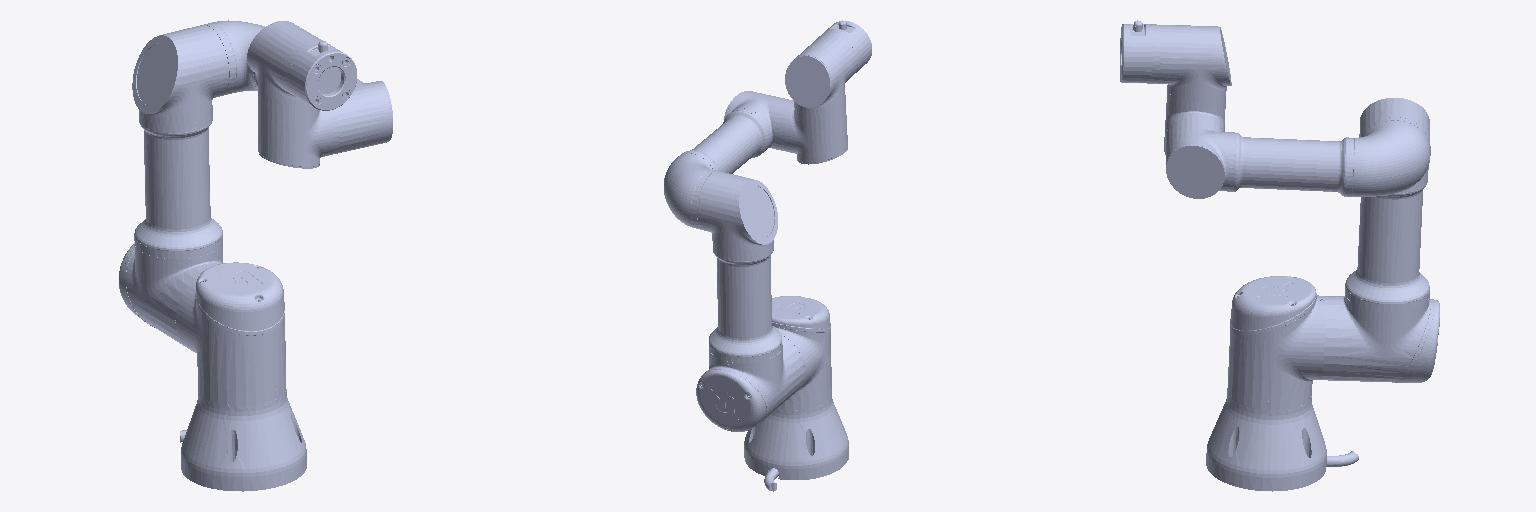
The robot description file, URDF, robot "UR3_4":
<robot
  name="UR3_4">
  <link
    name="base_link">
    <inertial>
      <origin
        xyz="-9.17917664867731E-05 0.00176225993189883 0.0221985040155013"
        rpy="0 0 0" />
      <mass
        value="0.615785178708615" />
      <inertia
        ixx="0.000798391609217155"
        ixy="-2.36939317248351E-06"
        ixz="2.31945715838129E-06"
        iyy="0.000785313593008411"
        iyz="-2.95609579480635E-05"
        izz="0.00102988796085097" />
    </inertial>
    <visual>
      <origin
        xyz="0 0 0"
        rpy="0 0 0" />
      <geometry>
        <mesh
          filename="package://UR3_4/meshes/base_link.STL" />
      </geometry>
      <material
        name="">
        <color
          rgba="0.792156862745098 0.819607843137255 0.933333333333333 1" />
      </material>
    </visual>
    <collision>
      <origin
        xyz="0 0 0"
        rpy="0 0 0" />
      <geometry>
        <mesh
          filename="package://UR3_4/meshes/base_link.STL" />
      </geometry>
    </collision>
  </link>
  <link
    name="link1">
    <inertial>
      <origin
        xyz="-1.16579425962352E-05 0.0542331848711327 0.00709561655792605"
        rpy="0 0 0" />
      <mass
        value="0.752018184613331" />
      <inertia
        ixx="0.00119772991115785"
        ixy="-1.57544981962304E-07"
        ixz="-1.40423013378356E-07"
        iyy="0.000903952766448813"
        iyz="9.95161463495687E-05"
        izz="0.00111931029014456" />
    </inertial>
    <visual>
      <origin
        xyz="0 0 0"
        rpy="0 0 0" />
      <geometry>
        <mesh
          filename="package://UR3_4/meshes/link1.STL" />
      </geometry>
      <material
        name="">
        <color
          rgba="0.792156862745098 0.819607843137255 0.933333333333333 1" />
      </material>
    </visual>
    <collision>
      <origin
        xyz="0 0 0"
        rpy="0 0 0" />
      <geometry>
        <mesh
          filename="package://UR3_4/meshes/link1.STL" />
      </geometry>
    </collision>
  </link>
  <joint
    name="jnt1"
    type="revolute">
    <origin
      xyz="0 0.0026751 0.062026"
      rpy="1.6139 -0.00078894 -3.1233" />
    <parent
      link="base_link" />
    <child
      link="link1" />
    <axis
      xyz="-0.00078894 -0.99907 0.043081" />
    <limit
      lower="0"
      upper="6.2"
      effort="0"
      velocity="0" />
  </joint>
  <link
    name="link2">
    <inertial>
      <origin
        xyz="-1.15992943500445E-05 0.0539289003732488 0.00709568345258235"
        rpy="0 0 0" />
      <mass
        value="0.752020006182499" />
      <inertia
        ixx="0.00119773082119344"
        ixy="-1.570312570916E-07"
        ixz="-1.39555784495906E-07"
        iyy="0.00090395542701678"
        iyz="9.95171516793994E-05"
        izz="0.0011193119653482" />
    </inertial>
    <visual>
      <origin
        xyz="0 0 0"
        rpy="0 0 0" />
      <geometry>
        <mesh
          filename="package://UR3_4/meshes/link2.STL" />
      </geometry>
      <material
        name="">
        <color
          rgba="0.792156862745098 0.819607843137255 0.933333333333333 1" />
      </material>
    </visual>
    <collision>
      <origin
        xyz="0 0 0"
        rpy="0 0 0" />
      <geometry>
        <mesh
          filename="package://UR3_4/meshes/link2.STL" />
      </geometry>
    </collision>
  </link>
  <joint
    name="jnt2"
    type="revolute">
    <origin
      xyz="0.00015682 0.065852 0.054304"
      rpy="1.5708 -9.0206E-17 3.1409" />
    <parent
      link="link1" />
    <child
      link="link2" />
    <axis
      xyz="0 -1 0" />
    <limit
      lower="0"
      upper="6.2"
      effort="0"
      velocity="0" />
  </joint>
  <link
    name="link3">
    <inertial>
      <origin
        xyz="2.98842200985305E-11 -1.58985949405555E-10 0.0695674237635138"
        rpy="0 0 0" />
      <mass
        value="0.552737646055454" />
      <inertia
        ixx="0.00126229583610101"
        ixy="1.27200881717884E-10"
        ixz="-3.86920646792959E-14"
        iyy="0.00126229828794338"
        iyz="-2.42310164634319E-12"
        izz="0.000345387859679815" />
    </inertial>
    <visual>
      <origin
        xyz="0 0 0"
        rpy="0 0 0" />
      <geometry>
        <mesh
          filename="package://UR3_4/meshes/link3.STL" />
      </geometry>
      <material
        name="">
        <color
          rgba="0.792156862745098 0.819607843137255 0.933333333333333 1" />
      </material>
    </visual>
    <collision>
      <origin
        xyz="0 0 0"
        rpy="0 0 0" />
      <geometry>
        <mesh
          filename="package://UR3_4/meshes/link3.STL" />
      </geometry>
    </collision>
  </link>
  <joint
    name="jnt3"
    type="revolute">
    <origin
      xyz="0.00015682 0.065548 0.05176"
      rpy="-1.9475E-16 -1.0122E-15 1.1551" />
    <parent
      link="link2" />
    <child
      link="link3" />
    <axis
      xyz="0 0 1" />
    <limit
      lower="0"
      upper="6.2"
      effort="0"
      velocity="0" />
  </joint>
  <link
    name="link4">
    <inertial>
      <origin
        xyz="-0.0373245831851897 -0.00757317719745282 1.5181359549199E-06"
        rpy="0 0 0" />
      <mass
        value="0.339212926694728" />
      <inertia
        ixx="0.000256473335771864"
        ixy="3.65273939584755E-05"
        ixz="3.07905866015282E-09"
        iyy="0.000286981954081314"
        iyz="-2.11118846806774E-09"
        izz="0.000282798048740792" />
    </inertial>
    <visual>
      <origin
        xyz="0 0 0"
        rpy="0 0 0" />
      <geometry>
        <mesh
          filename="package://UR3_4/meshes/link4.STL" />
      </geometry>
      <material
        name="">
        <color
          rgba="0.792156862745098 0.819607843137255 0.933333333333333 1" />
      </material>
    </visual>
    <collision>
      <origin
        xyz="0 0 0"
        rpy="0 0 0" />
      <geometry>
        <mesh
          filename="package://UR3_4/meshes/link4.STL" />
      </geometry>
    </collision>
  </link>
  <joint
    name="jnt4"
    type="revolute">
    <origin
      xyz="0 0 0.14633"
      rpy="1.7932 1.5708 2.1973" />
    <parent
      link="link3" />
    <child
      link="link4" />
    <axis
      xyz="-1 0 0" />
    <limit
      lower="0"
      upper="6.2"
      effort="0"
      velocity="0" />
  </joint>
  <link
    name="link5">
    <inertial>
      <origin
        xyz="0.0550451072198847 0.0123769577291497 4.65258919168932E-08"
        rpy="0 0 0" />
      <mass
        value="0.315980001610279" />
      <inertia
        ixx="0.000256415626401478"
        ixy="6.62359487957181E-05"
        ixz="1.04055969425121E-09"
        iyy="0.00022631890140513"
        iyz="1.43323591695389E-09"
        izz="0.000291465583650888" />
    </inertial>
    <visual>
      <origin
        xyz="0 0 0"
        rpy="0 0 0" />
      <geometry>
        <mesh
          filename="package://UR3_4/meshes/link5.STL" />
      </geometry>
      <material
        name="">
        <color
          rgba="0.792156862745098 0.819607843137255 0.933333333333333 1" />
      </material>
    </visual>
    <collision>
      <origin
        xyz="0 0 0"
        rpy="0 0 0" />
      <geometry>
        <mesh
          filename="package://UR3_4/meshes/link5.STL" />
      </geometry>
    </collision>
  </link>
  <joint
    name="jnt5"
    type="revolute">
    <origin
      xyz="-0.045564 -0.021967 0"
      rpy="-1.5788 5.8981E-16 -1.5708" />
    <parent
      link="link4" />
    <child
      link="link5" />
    <axis
      xyz="1 0 0" />
    <limit
      lower="0"
      upper="6.2"
      effort="0"
      velocity="0" />
  </joint>
  <link
    name="link6">
    <inertial>
      <origin
        xyz="-1.02355826592238E-09 -5.35945843260777E-10 -0.0652977977164337"
        rpy="0 0 0" />
      <mass
        value="0.321040378507981" />
      <inertia
        ixx="0.000570290480838894"
        ixy="-9.41403448453932E-10"
        ixz="-1.0366737266069E-11"
        iyy="0.000570295519173622"
        iyz="-5.53985581887803E-12"
        izz="0.000126061026996997" />
    </inertial>
    <visual>
      <origin
        xyz="0 0 0"
        rpy="0 0 0" />
      <geometry>
        <mesh
          filename="package://UR3_4/meshes/link6.STL" />
      </geometry>
      <material
        name="">
        <color
          rgba="0.792156862745098 0.819607843137255 0.933333333333333 1" />
      </material>
    </visual>
    <collision>
      <origin
        xyz="0 0 0"
        rpy="0 0 0" />
      <geometry>
        <mesh
          filename="package://UR3_4/meshes/link6.STL" />
      </geometry>
    </collision>
  </link>
  <joint
    name="jnt6"
    type="revolute">
    <origin
      xyz="0.071244 0.046024 0"
      rpy="-1.5708 -0.12492 3.1416" />
    <parent
      link="link5" />
    <child
      link="link6" />
    <axis
      xyz="0 0 -1" />
    <limit
      lower="0"
      upper="6.2"
      effort="0"
      velocity="0" />
  </joint>
  <link
    name="link7">
    <inertial>
      <origin
        xyz="-0.0367074220900242 -0.00553144984424089 4.13709880187074E-07"
        rpy="0 0 0" />
      <mass
        value="0.276073153901797" />
      <inertia
        ixx="0.000181700922840963"
        ixy="1.688946906456E-05"
        ixz="2.07092873180666E-09"
        iyy="0.000178933890243897"
        iyz="-3.75045458637156E-09"
        izz="0.000215939814591068" />
    </inertial>
    <visual>
      <origin
        xyz="0 0 0"
        rpy="0 0 0" />
      <geometry>
        <mesh
          filename="package://UR3_4/meshes/link7.STL" />
      </geometry>
      <material
        name="">
        <color
          rgba="0.792156862745098 0.819607843137255 0.933333333333333 1" />
      </material>
    </visual>
    <collision>
      <origin
        xyz="0 0 0"
        rpy="0 0 0" />
      <geometry>
        <mesh
          filename="package://UR3_4/meshes/link7.STL" />
      </geometry>
    </collision>
  </link>
  <joint
    name="jnt7"
    type="revolute">
    <origin
      xyz="0 0 -0.12281"
      rpy="-1.6061 -1.5708 -2.9597" />
    <parent
      link="link6" />
    <child
      link="link7" />
    <axis
      xyz="-1 0 0" />
    <limit
      lower="0"
      upper="6.2"
      effort="0"
      velocity="0" />
  </joint>
  <link
    name="link8">
    <inertial>
      <origin
        xyz="-0.042305424857576 -0.00553162235503007 4.50191684514545E-07"
        rpy="0 0 0" />
      <mass
        value="0.276071483529249" />
      <inertia
        ixx="0.000181699601817208"
        ixy="1.68885039442407E-05"
        ixz="2.23924759841302E-09"
        iyy="0.000178941863186415"
        iyz="-3.42151886666245E-09"
        izz="0.000215946484205604" />
    </inertial>
    <visual>
      <origin
        xyz="0 0 0"
        rpy="0 0 0" />
      <geometry>
        <mesh
          filename="package://UR3_4/meshes/link8.STL" />
      </geometry>
      <material
        name="">
        <color
          rgba="0.792156862745098 0.819607843137255 0.933333333333333 1" />
      </material>
    </visual>
    <collision>
      <origin
        xyz="0 0 0"
        rpy="0 0 0" />
      <geometry>
        <mesh
          filename="package://UR3_4/meshes/link8.STL" />
      </geometry>
    </collision>
  </link>
  <joint
    name="jnt8"
    type="revolute">
    <origin
      xyz="-0.044162 -0.03364 0"
      rpy="1.5706 -4.0049E-15 1.5708" />
    <parent
      link="link7" />
    <child
      link="link8" />
    <axis
      xyz="1 0 0" />
    <limit
      lower="0"
      upper="6.2"
      effort="0"
      velocity="0" />
  </joint>
  <link
    name="link9">
    <inertial>
      <origin
        xyz="-0.0375715626595217 -0.00553145550412851 4.12898463817216E-07"
        rpy="0 0 0" />
      <mass
        value="0.276072926967329" />
      <inertia
        ixx="0.000181700720449304"
        ixy="1.68894771258753E-05"
        ixz="2.09064022016729E-09"
        iyy="0.000178933701503148"
        iyz="-3.73625822853678E-09"
        izz="0.000215939730131613" />
    </inertial>
    <visual>
      <origin
        xyz="0 0 0"
        rpy="0 0 0" />
      <geometry>
        <mesh
          filename="package://UR3_4/meshes/link9.STL" />
      </geometry>
      <material
        name="">
        <color
          rgba="0.792156862745098 0.819607843137255 0.933333333333333 1" />
      </material>
    </visual>
    <collision>
      <origin
        xyz="0 0 0"
        rpy="0 0 0" />
      <geometry>
        <mesh
          filename="package://UR3_4/meshes/link9.STL" />
      </geometry>
    </collision>
  </link>
  <joint
    name="jnt9"
    type="revolute">
    <origin
      xyz="-0.04976 -0.038374 0"
      rpy="1.5383 -7.4333E-16 1.5708" />
    <parent
      link="link8" />
    <child
      link="link9" />
    <axis
      xyz="-1 0 0" />
    <limit
      lower="0"
      upper="6.2"
      effort="0"
      velocity="0" />
  </joint>
  <link
    name="link10">
    <inertial>
      <origin
        xyz="-3.4161258023746E-11 0.000103305758782479 -0.019297780219535"
        rpy="0 0 0" />
      <mass
        value="0.115355247294107" />
      <inertia
        ixx="4.32035974145055E-05"
        ixy="-5.73656517550076E-13"
        ixz="1.20229456345579E-12"
        iyy="4.34162195885928E-05"
        iyz="-1.08131291624742E-07"
        izz="5.90666750281698E-05" />
    </inertial>
    <visual>
      <origin
        xyz="0 0 0"
        rpy="0 0 0" />
      <geometry>
        <mesh
          filename="package://UR3_4/meshes/link10.STL" />
      </geometry>
      <material
        name="">
        <color
          rgba="0.792156862745098 0.819607843137255 0.933333333333333 1" />
      </material>
    </visual>
    <collision>
      <origin
        xyz="0 0 0"
        rpy="0 0 0" />
      <geometry>
        <mesh
          filename="package://UR3_4/meshes/link10.STL" />
      </geometry>
    </collision>
  </link>
  <joint
    name="jnt10"
    type="revolute">
    <origin
      xyz="-0.045026 -0.042675 0"
      rpy="-1.5708 -1.5653 3.1027E-13" />
    <parent
      link="link9" />
    <child
      link="link10" />
    <axis
      xyz="0 0 1" />
    <limit
      lower="0"
      upper="6.2"
      effort="0"
      velocity="0" />
  </joint>
</robot>

--- Render facts (derived) ---
3 views of the same robot in one strip: view 1: azimuth 30°, elevation 25°; view 2: azimuth 150°, elevation 25°; view 3: azimuth 270°, elevation 25° (orthographic).
Robot: UR3_4 — 11 links, 10 joints (10 revolute); root link base_link; default pose: every joint at zero.
Links seen in each view (by area): view 1: link1, base_link, link3, link4, link2, link8, link10, link9, link7, link5; view 2: base_link, link3, link2, link4, link1, link9, link8, link6, link5, link7, link10; view 3: link1, base_link, link2, link3, link6, link5, link9, link7, link10, link4, link8.
Link boxes in pixels (x1,y1,x2,y2): link1: (175, 262, 285, 405); base_link: (180, 389, 306, 491); link3: (134, 111, 222, 258); link4: (132, 25, 228, 124); link2: (119, 242, 222, 346); link8: (258, 96, 338, 168); link10: (285, 40, 356, 110); link9: (247, 21, 322, 104); link7: (332, 79, 392, 154); link5: (204, 20, 264, 95); base_link: (744, 396, 848, 491); link3: (709, 243, 782, 362); link2: (696, 335, 804, 431); link4: (697, 171, 777, 254); link1: (772, 296, 831, 410); link9: (785, 34, 857, 113); link8: (780, 102, 847, 164); link6: (681, 110, 767, 173); link5: (664, 153, 716, 229); link7: (724, 91, 793, 152); link10: (818, 20, 871, 72); link1: (1227, 276, 1324, 410); base_link: (1206, 392, 1358, 491); link2: (1322, 295, 1439, 382); link3: (1345, 175, 1429, 311); link6: (1232, 133, 1353, 196); link5: (1352, 117, 1430, 196); link9: (1158, 25, 1231, 102); link7: (1165, 116, 1234, 198); link10: (1120, 20, 1160, 83); link4: (1359, 98, 1430, 182); link8: (1164, 90, 1225, 154).
Size in the robot's own frame: 0.1925 by 0.3407 by 0.5321 metres.
11 mesh visuals loaded from 11 distinct referenced files (11 binary STL).